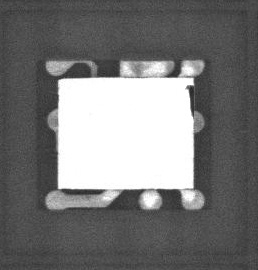DIE_BROKEN: (183, 83, 195, 119)
